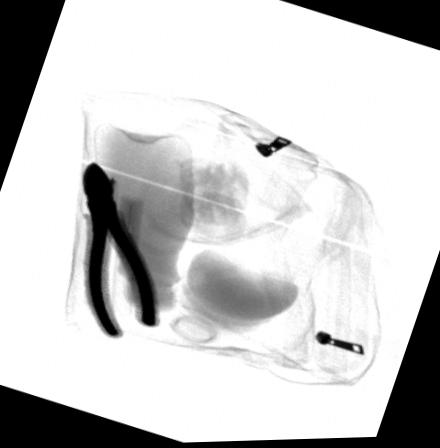Pliers: (81, 161, 160, 340)
